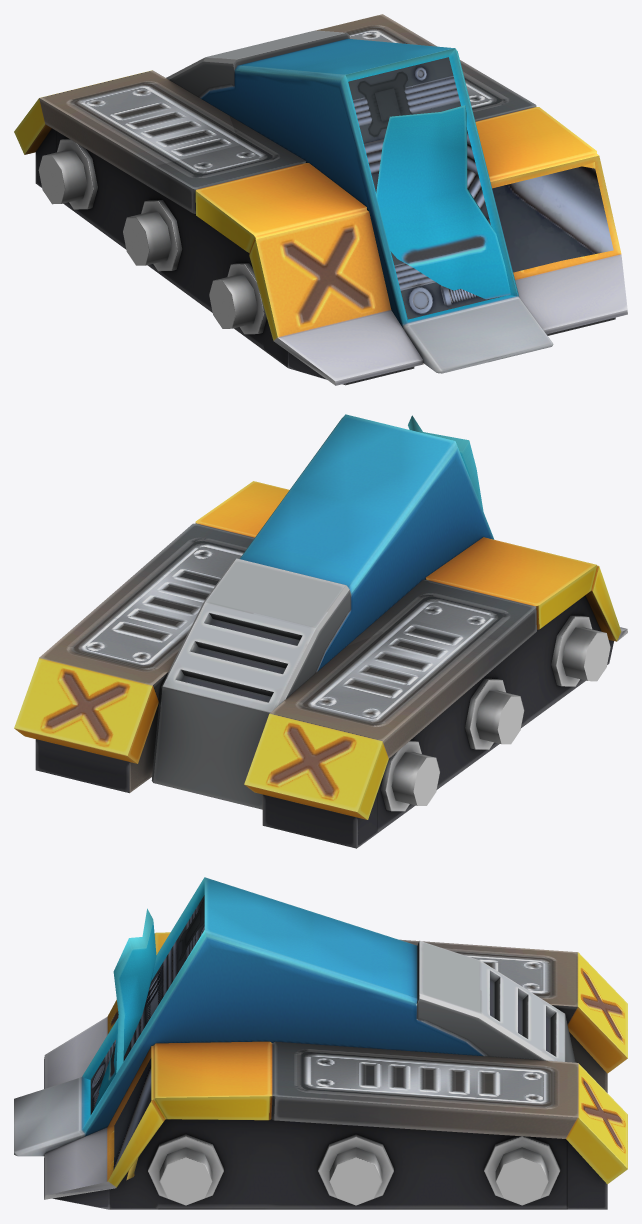
The model's file is body_ch203_a2_destructable.fbx.
The picture shows the model from 3 angles, top to bottom: view 1: azimuth 30°, elevation 25°; view 2: azimuth 150°, elevation 25°; view 3: azimuth 270°, elevation 25°; orthographic projection.
Visible parts, largest first — view 1: Cube.114, Cube.418, Cube.116, Cube.417, Cube.416; view 2: Cube.114, Cube.416, Cube.417, Cube.418; view 3: Cube.114, Cube.416, Cube.417, Cube.418.
Boxes of the visible parts, bbox=[...] form: Cube.114: bbox=[14, 30, 627, 385]; Cube.418: bbox=[376, 105, 510, 299]; Cube.116: bbox=[255, 212, 391, 337]; Cube.417: bbox=[40, 70, 239, 165]; Cube.416: bbox=[316, 14, 535, 119]; Cube.114: bbox=[35, 414, 627, 848]; Cube.416: bbox=[14, 523, 253, 763]; Cube.417: bbox=[269, 620, 497, 741]; Cube.418: bbox=[408, 415, 483, 510]; Cube.114: bbox=[14, 877, 627, 1209]; Cube.416: bbox=[274, 1041, 627, 1184]; Cube.417: bbox=[399, 939, 578, 1006]; Cube.418: bbox=[93, 908, 156, 1110].
Size of the model in its own units: 190 by 112 by 273.
